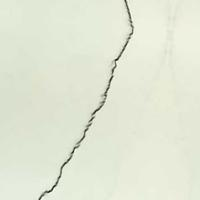crack: (37, 0, 138, 199)
